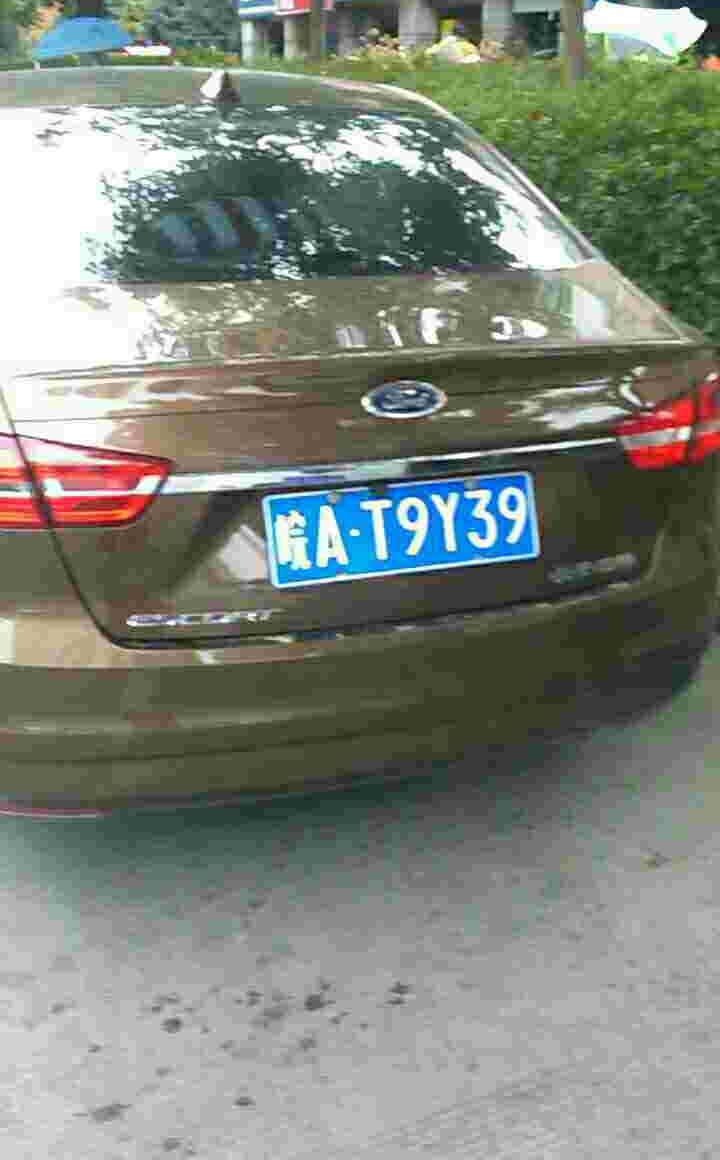license_plate: (262, 472, 544, 576)
